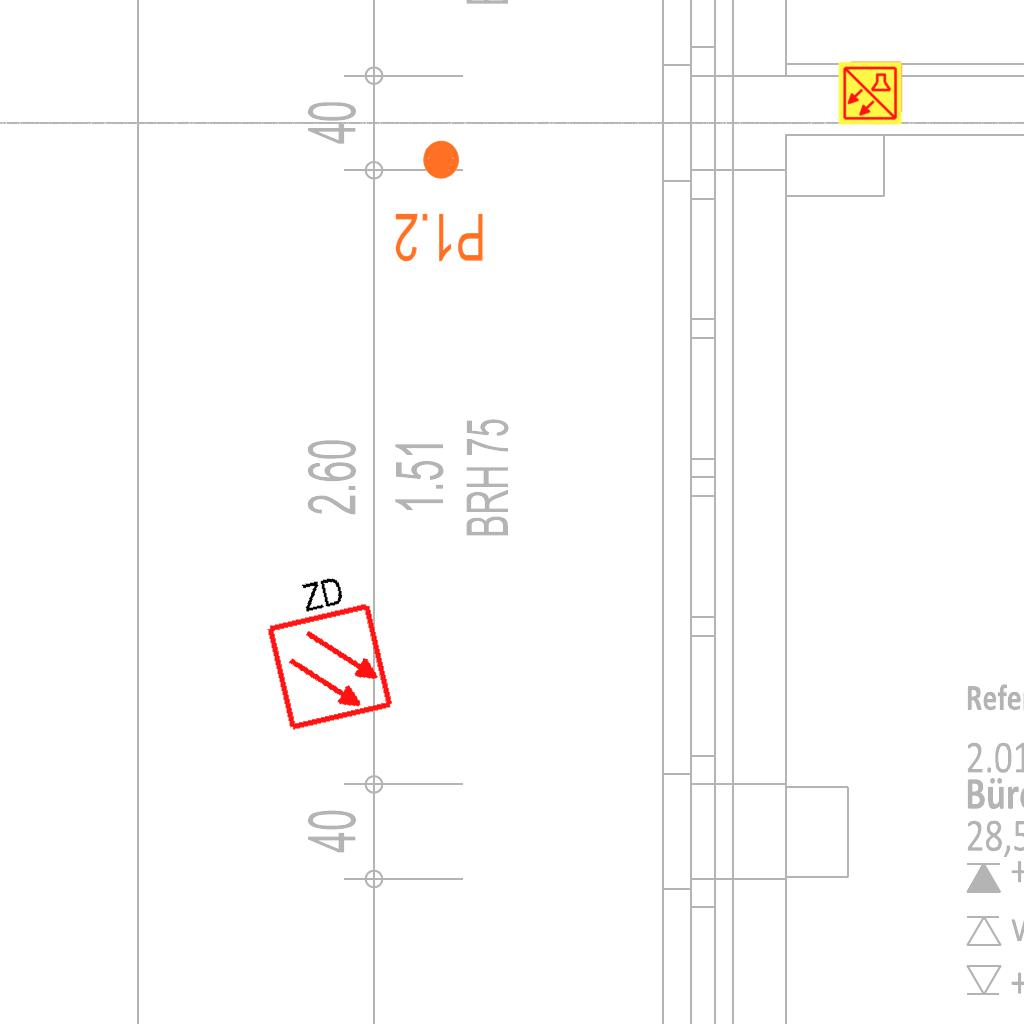Downlight_LED_Einbauleuchten_Flur: (393, 137, 486, 265)
OKW_Multisensormelder_(Kombination_optischer_Rauch-Kahlenmonoxid_Waerme-Melder): (837, 60, 903, 126)
ZD_Melder_in_Zwischendecke_mit_Revisionsoeffnung_mind_40_x_40_cm: (251, 563, 397, 734)
